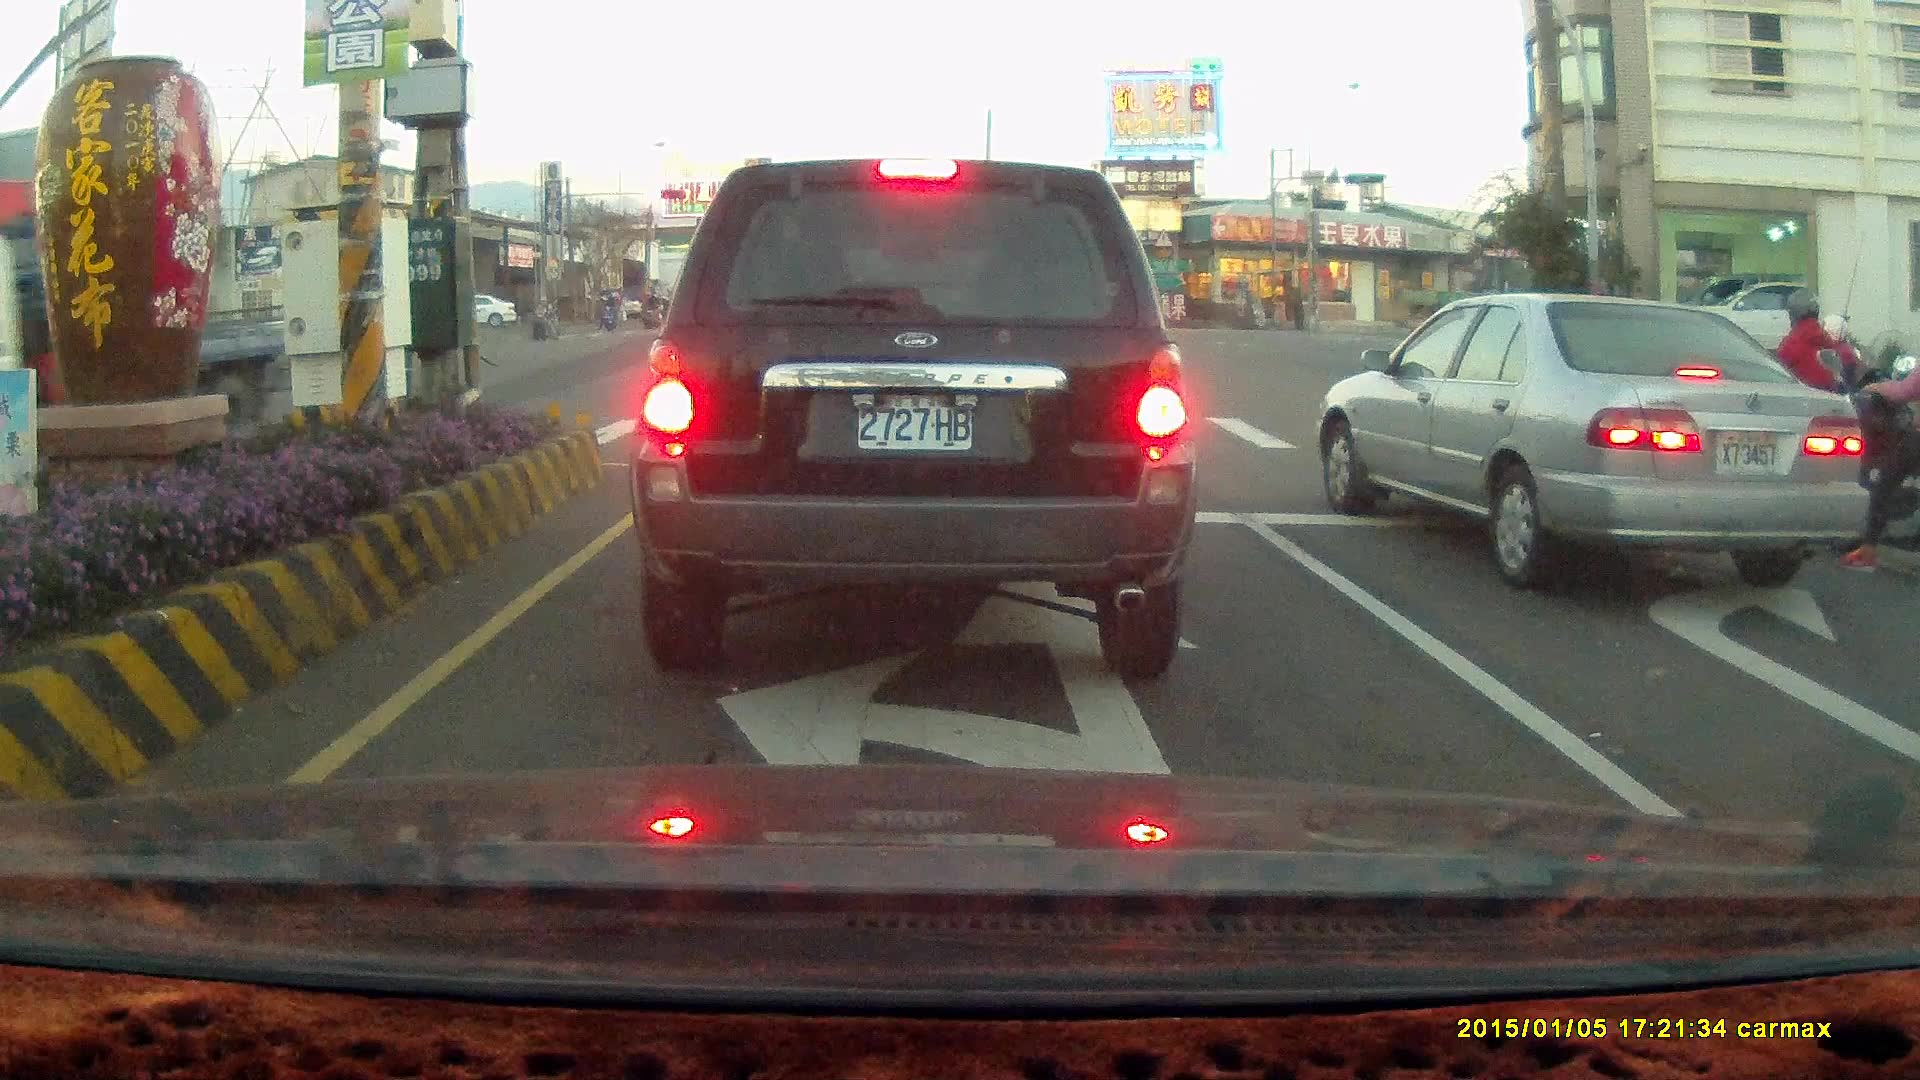rider: (1720, 287, 1860, 543), (1812, 346, 1920, 570), (529, 289, 562, 339), (599, 292, 620, 333), (645, 292, 666, 329)
vehicle: (626, 156, 1197, 683), (1314, 290, 1872, 594), (1330, 294, 1873, 577), (1656, 276, 1864, 372), (1668, 275, 1823, 373), (1896, 493, 1920, 836)
